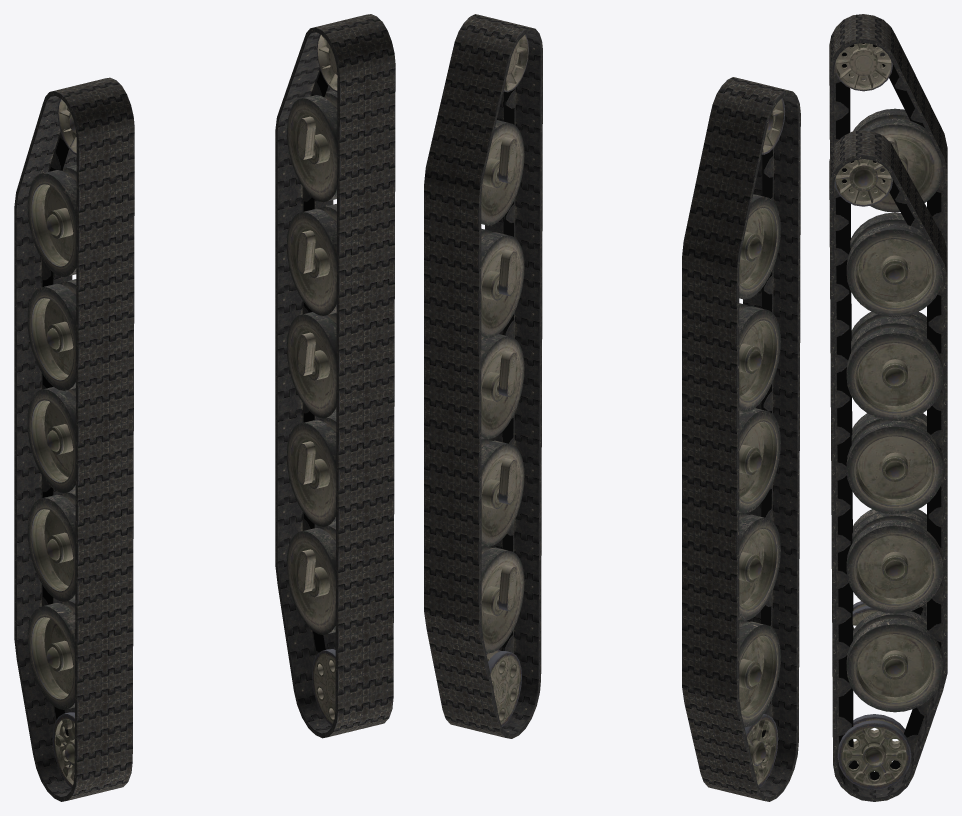
Rendered from Chassis.glb.
3 renders of one model, left to right at view 1: azimuth 30°, elevation 25°; view 2: azimuth 150°, elevation 25°; view 3: azimuth 270°, elevation 25°, orthographic. The views are drawn at different scales.
Visible parts, largest first — view 1: set_1_group_0, set_0_group_0, set_3_group_0, set_2_group_0; view 2: set_1_group_0, set_0_group_0, set_3_group_0, set_2_group_0; view 3: set_3_group_0, set_0_group_0, set_2_group_0, set_1_group_0.
Part boxes in pixels (box(x1,y1,x2,y2)): set_1_group_0: box(14, 77, 134, 801); set_0_group_0: box(275, 14, 395, 738); set_3_group_0: box(287, 34, 337, 725); set_2_group_0: box(27, 98, 76, 788); set_1_group_0: box(682, 77, 800, 801); set_0_group_0: box(424, 14, 542, 738); set_3_group_0: box(481, 34, 528, 726); set_2_group_0: box(739, 98, 785, 788); set_3_group_0: box(834, 159, 943, 789); set_0_group_0: box(829, 130, 947, 801); set_2_group_0: box(834, 43, 943, 629); set_1_group_0: box(829, 14, 947, 630).
Bounding box in the file's own units: 2.85 × 6.1 × 1.01.
4 materials, 4 textured.
